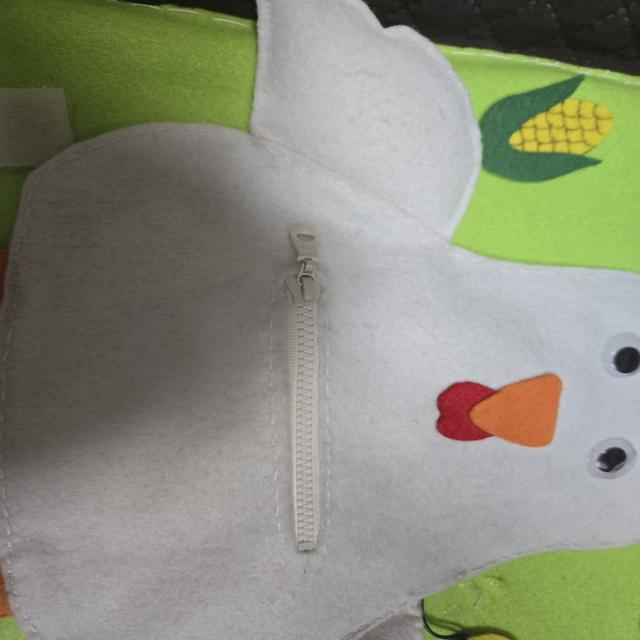zip_body: (287, 279, 323, 555)
zip_head: (287, 225, 325, 307)
